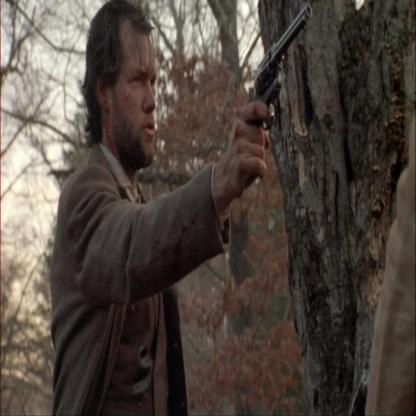gun: (249, 1, 317, 123)
